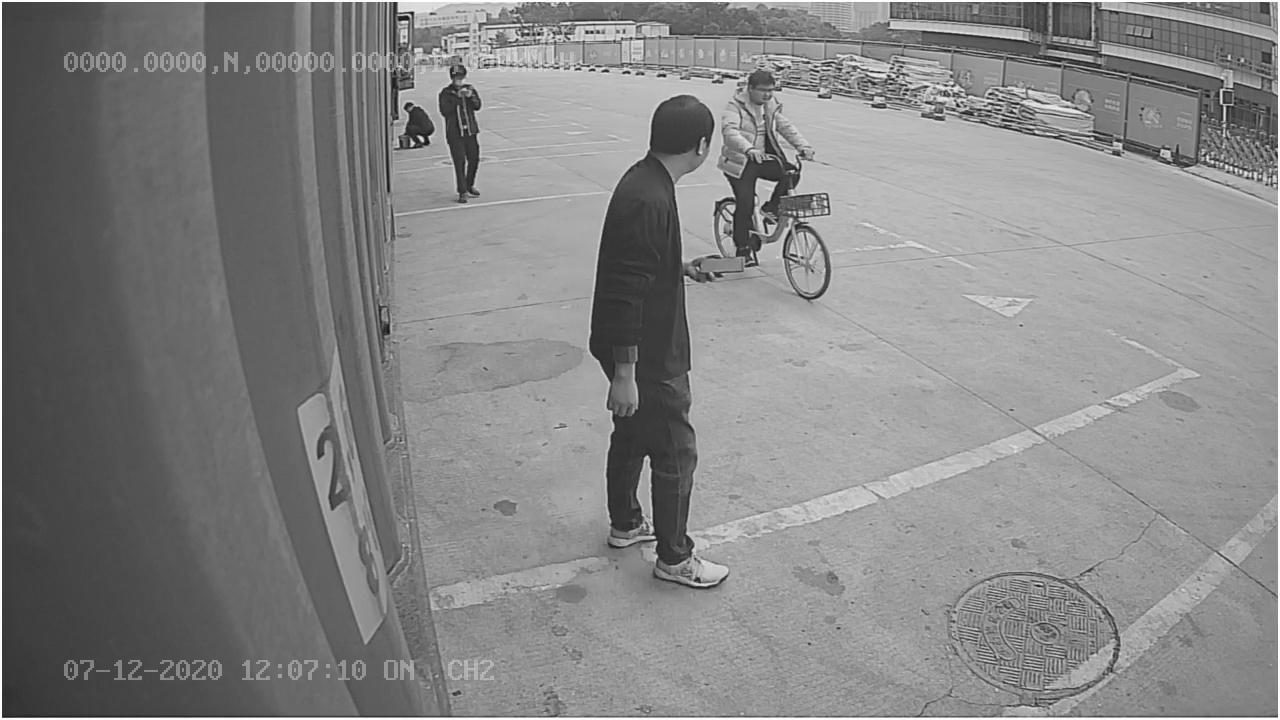person: (580, 84, 710, 430)
